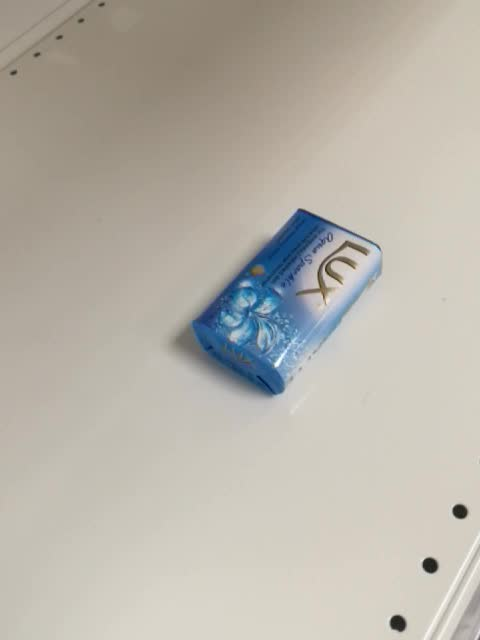soap: (190, 205, 385, 397)
